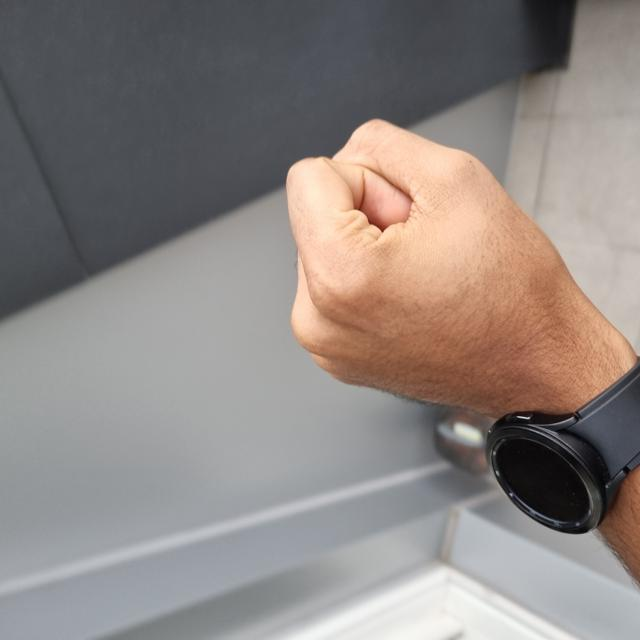Rock: (225, 284, 520, 613)
